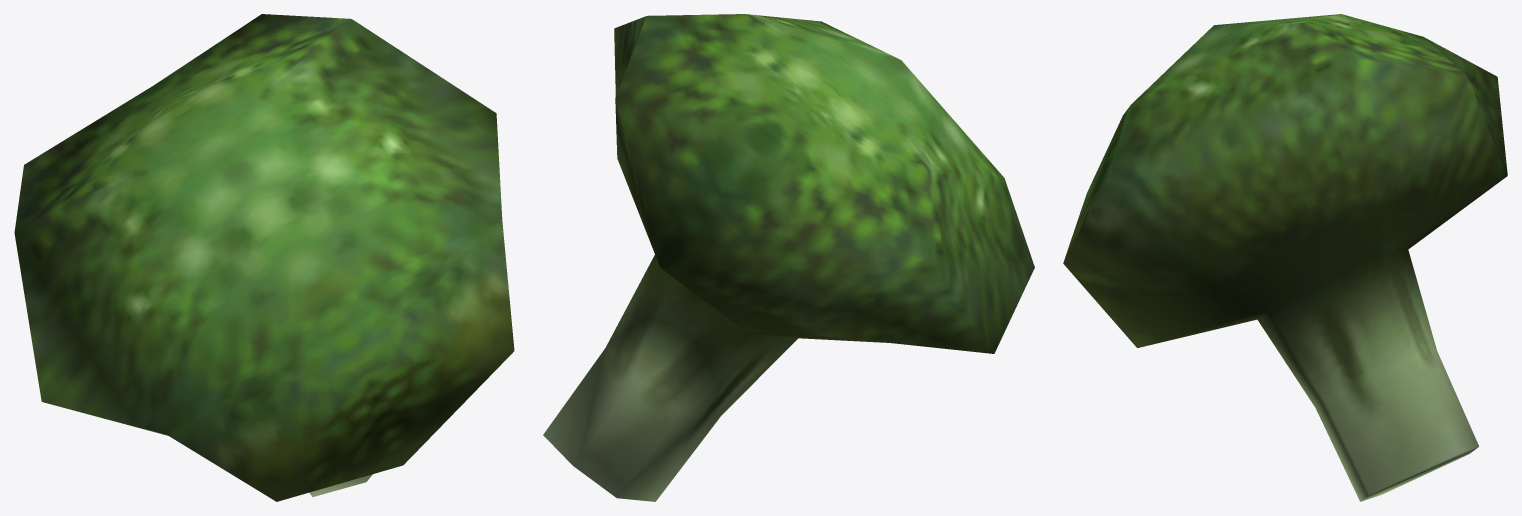
The model's file is Broccoli.fbx.
3 views of the same model, side by side, from view 1: azimuth 30°, elevation 25°; view 2: azimuth 150°, elevation 25°; view 3: azimuth 270°, elevation 25° (orthographic). The views are drawn at different scales.
Parts seen in each view (by area): view 1: Broccoli; view 2: Broccoli; view 3: Broccoli.
Part boxes in pixels (x1,y1,x2,y2): Broccoli: (14,14,514,501); Broccoli: (543,14,1034,501); Broccoli: (1063,14,1507,501).
Bounding box in the file's own units: 0.0572 × 0.0626 × 0.0563.
